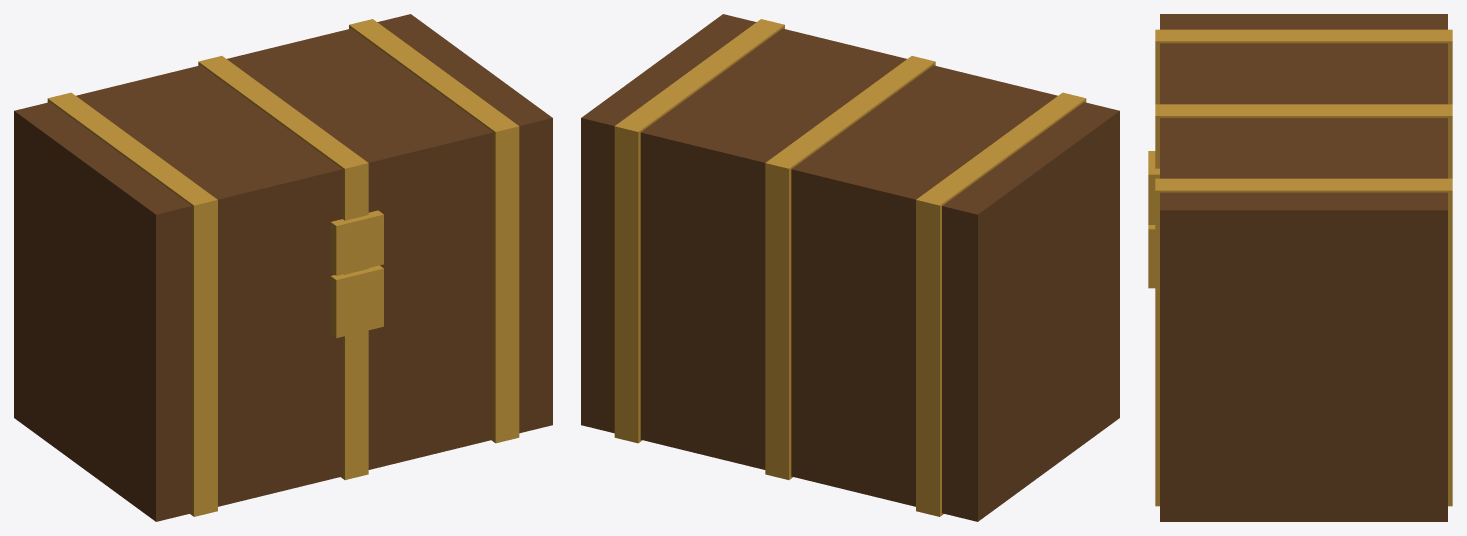
The model's file is chest.glb.
3 views of the same model, side by side, from view 1: azimuth 30°, elevation 25°; view 2: azimuth 150°, elevation 25°; view 3: azimuth 270°, elevation 25° (orthographic).
Parts seen in each view (by area): view 1: ChestBase, ChestLid; view 2: ChestBase, ChestLid; view 3: ChestLid, ChestBase.
Part boxes in pixels (bbox=[...]): ChestBase: bbox=[14, 210, 552, 521]; ChestLid: bbox=[14, 14, 552, 314]; ChestBase: bbox=[581, 210, 1119, 521]; ChestLid: bbox=[581, 14, 1119, 314]; ChestLid: bbox=[1148, 14, 1452, 311]; ChestBase: bbox=[1148, 225, 1452, 521].
Size of the model in its own units: 1 by 0.75 by 0.655.
